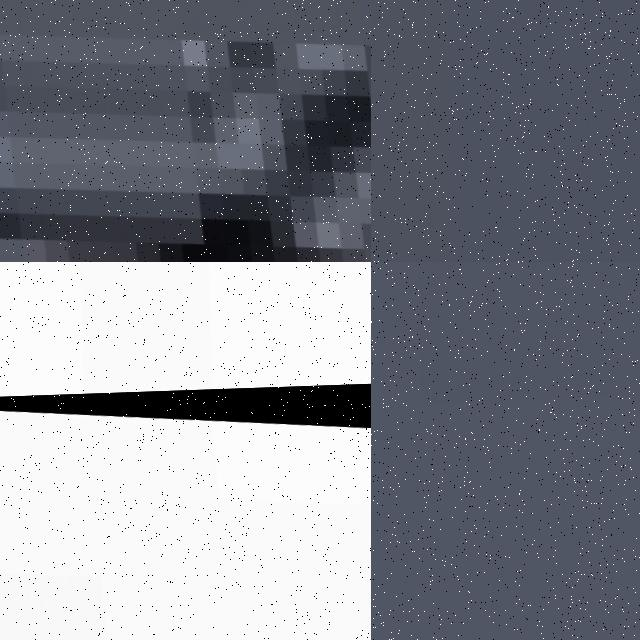0: (0, 0, 371, 262)
drone: (0, 380, 371, 640)
